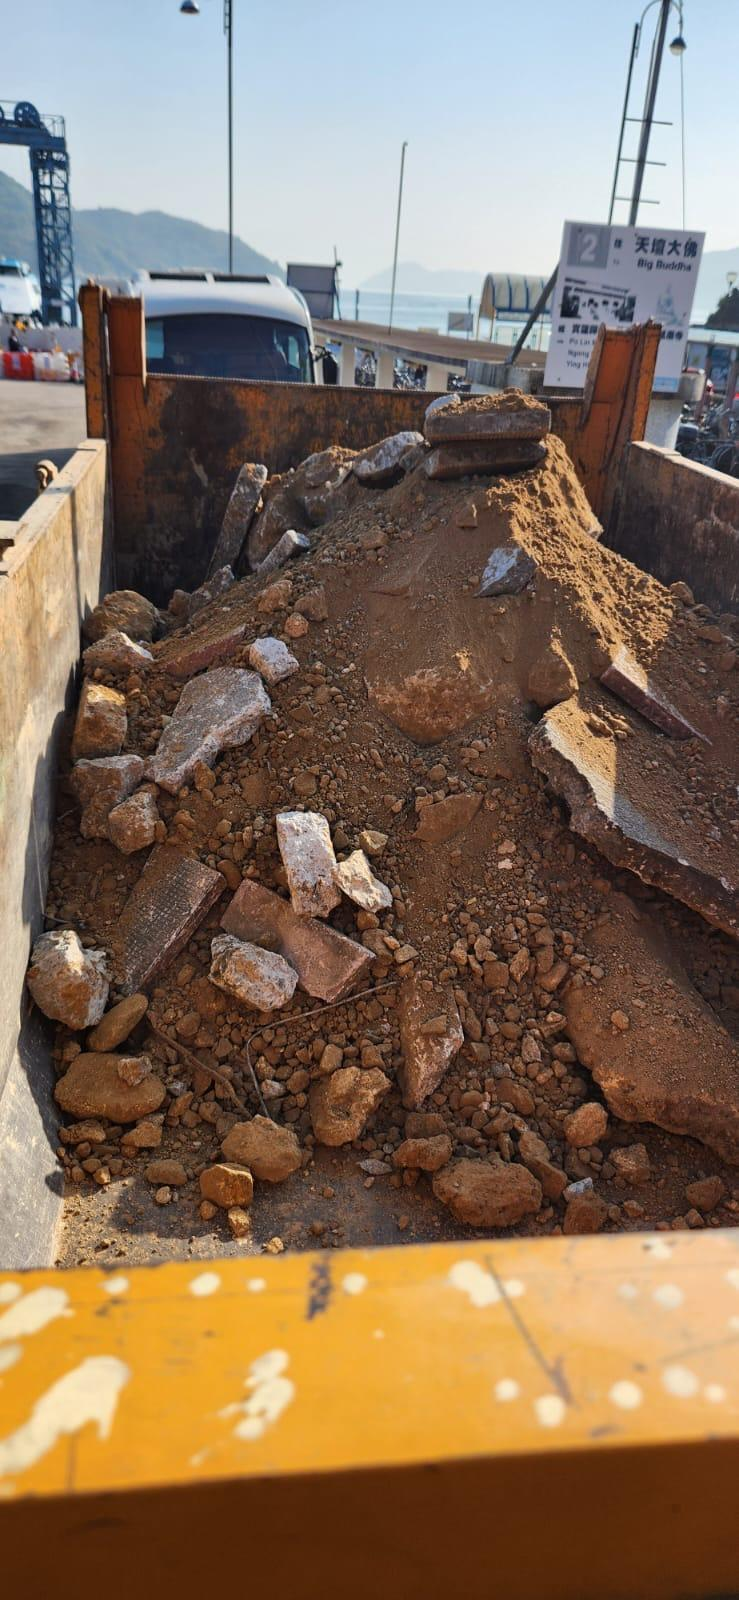dry: (65, 435, 738, 1222)
